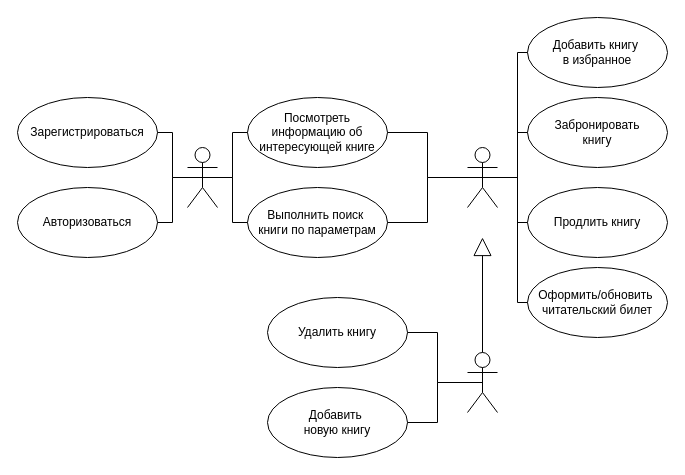
This 685x475 diagram has some shape labels left out. The shapes that lost their labels are listed below. From the top down, each one's centre as x and y in pixels, then its label:
At [202,177]: "Гость".
At [482,177]: "Читатель".
At [482,382]: "Администратор".
